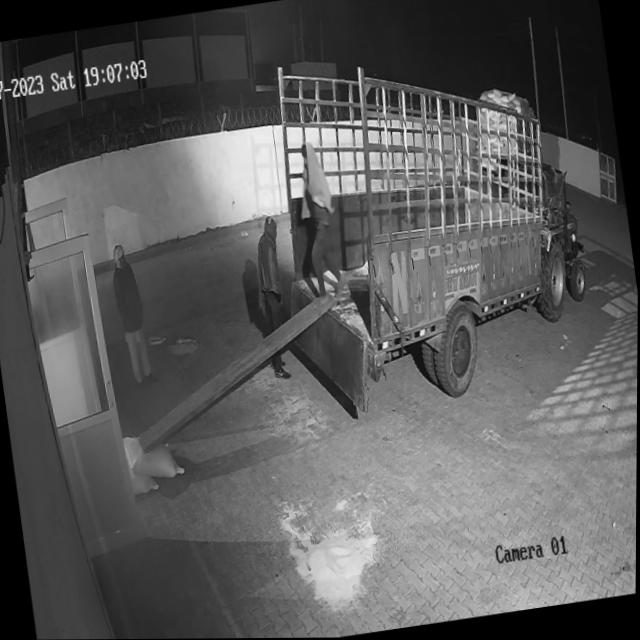sack: (123, 428, 187, 485)
